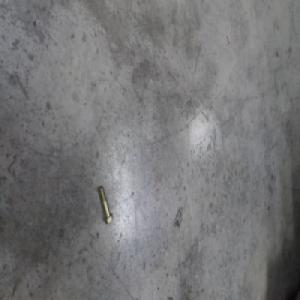Bolt: (96, 185, 113, 227)
